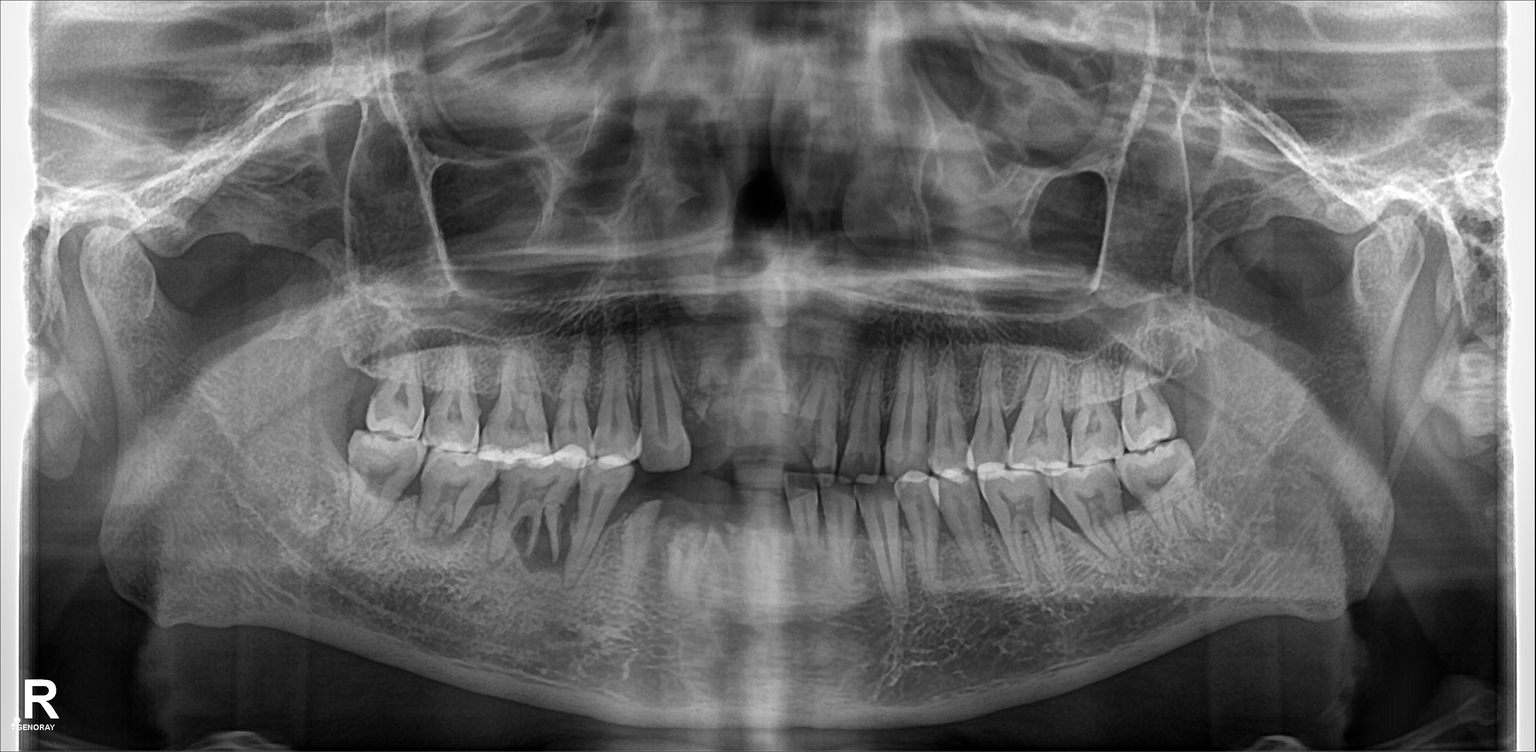Missing Tooth: (1162, 337, 1216, 436), (330, 341, 377, 431)
Periapical Lesion: (507, 503, 581, 582)
Retained Root: (685, 350, 746, 471)
